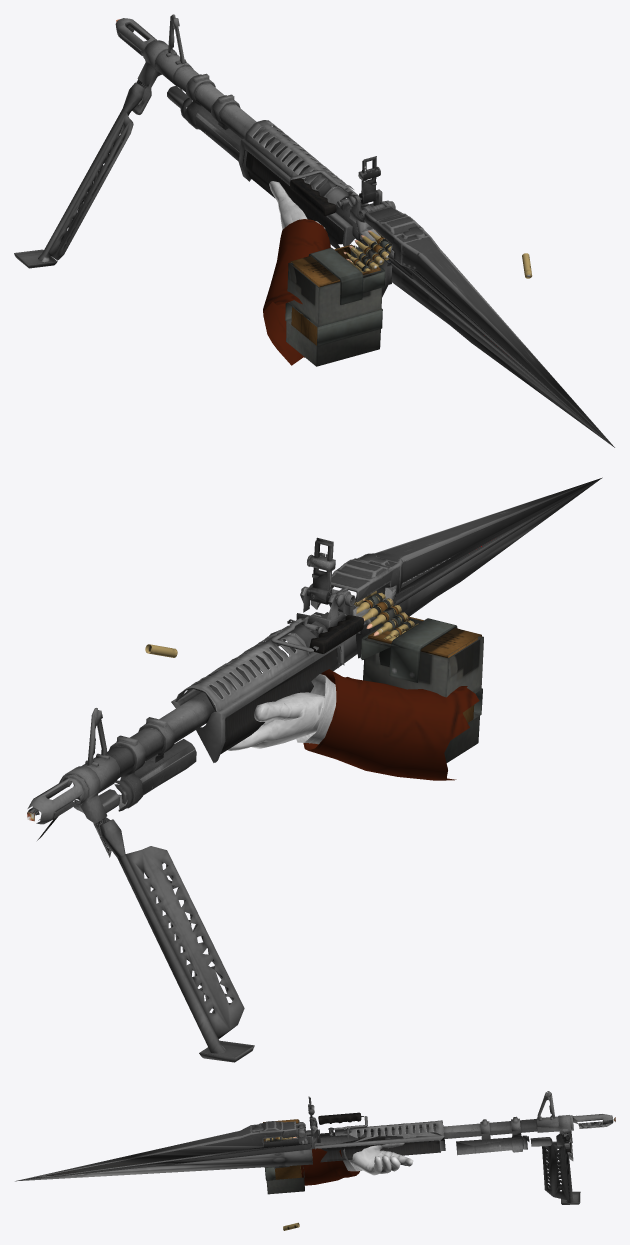
The model's file is frame_23.obj.
The picture shows the model from 3 angles, top to bottom: view 1: azimuth 30°, elevation 25°; view 2: azimuth 150°, elevation 25°; view 3: azimuth 270°, elevation 25°; orthographic projection. The views are drawn at different scales.
Visible parts, largest first — view 1: Mesh.005, PlayerModelMerged.001_PlayerModelMerged, Mesh.001; view 2: Mesh.005, PlayerModelMerged.001_PlayerModelMerged, Mesh.001; view 3: Mesh.005, PlayerModelMerged.001_PlayerModelMerged.
Part boxes in pixels (x1,y1,x2,y2): Mesh.005: (14,14,614,447); PlayerModelMerged.001_PlayerModelMerged: (263,181,330,365); Mesh.001: (343,230,391,271); Mesh.005: (27,477,602,1062); PlayerModelMerged.001_PlayerModelMerged: (227,669,479,780); Mesh.001: (355,592,414,639); Mesh.005: (15,1091,613,1204); PlayerModelMerged.001_PlayerModelMerged: (301,1143,413,1185).
Size of the model in its own units: 0.8108 by 0.6133 by 2.27.
